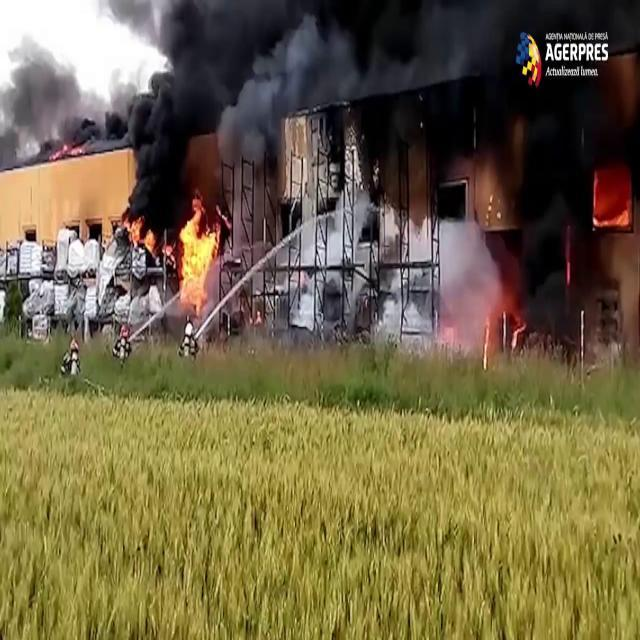Fire: (175, 196, 222, 306), (124, 214, 157, 254)
Smoke: (124, 1, 403, 183), (463, 0, 640, 273), (0, 40, 97, 164)
